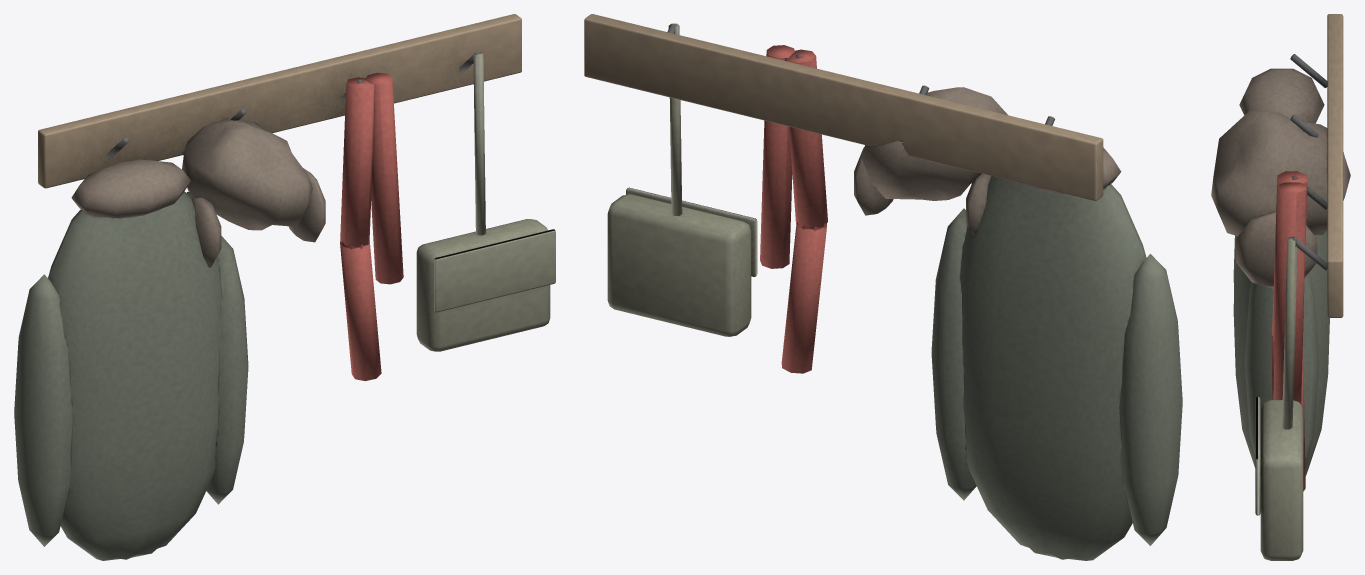
The model's file is coat_hooks.glb.
3 renders of one model, left to right at view 1: azimuth 30°, elevation 25°; view 2: azimuth 150°, elevation 25°; view 3: azimuth 270°, elevation 25°, orthographic. The views are drawn at different scales.
Visible parts, largest first — view 1: coat_hooks; view 2: coat_hooks; view 3: coat_hooks.
Part boxes in pixels (<box>): coat_hooks: <box>14,14,555,560</box>; coat_hooks: <box>584,14,1182,560</box>; coat_hooks: <box>1211,14,1350,560</box>.
Bounding box in the file's own units: 1.21 × 0.93 × 0.2621.
1 material, 1 textured.
